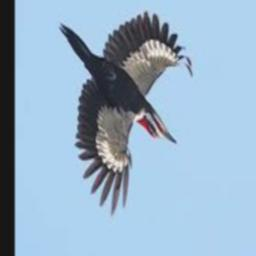Woodpecker: (59, 13, 193, 217)
